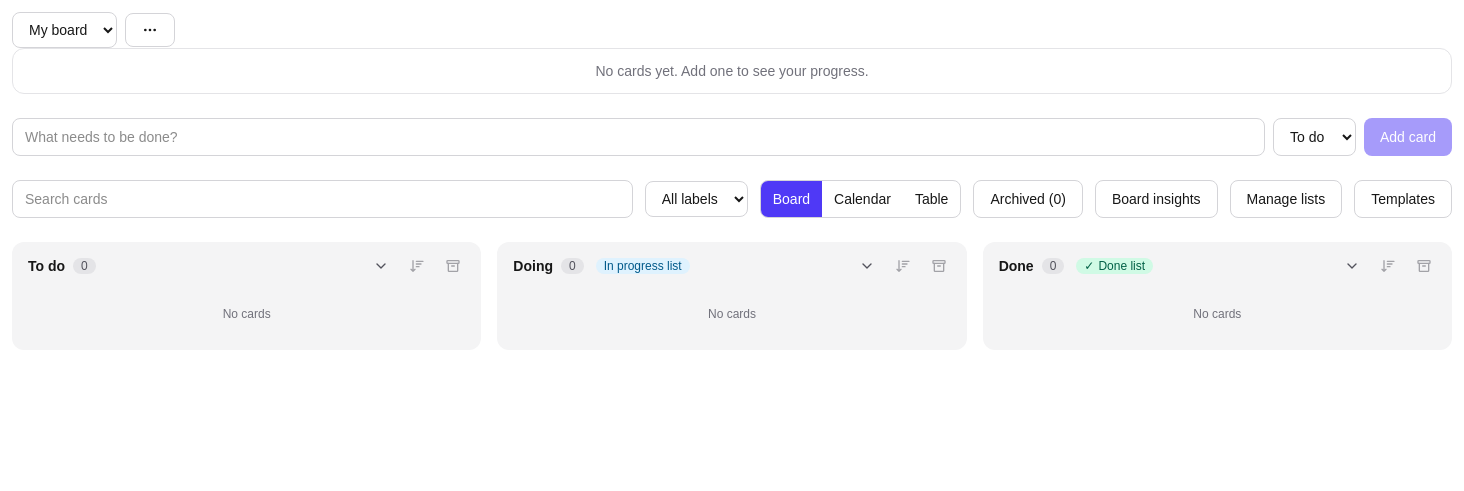
Scenario: <BoardSwitcher /> › collapse empty lists › works by keyboard
Click the button named "Board actions". click: (150,30)
box: [125,13,175,47]
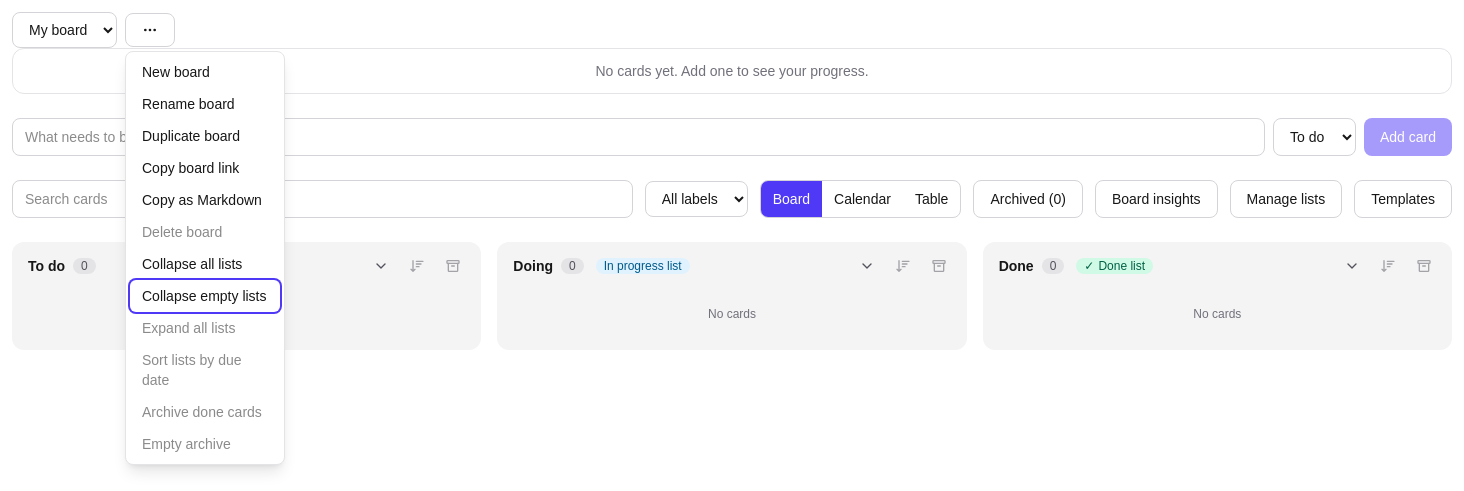
Press Enter
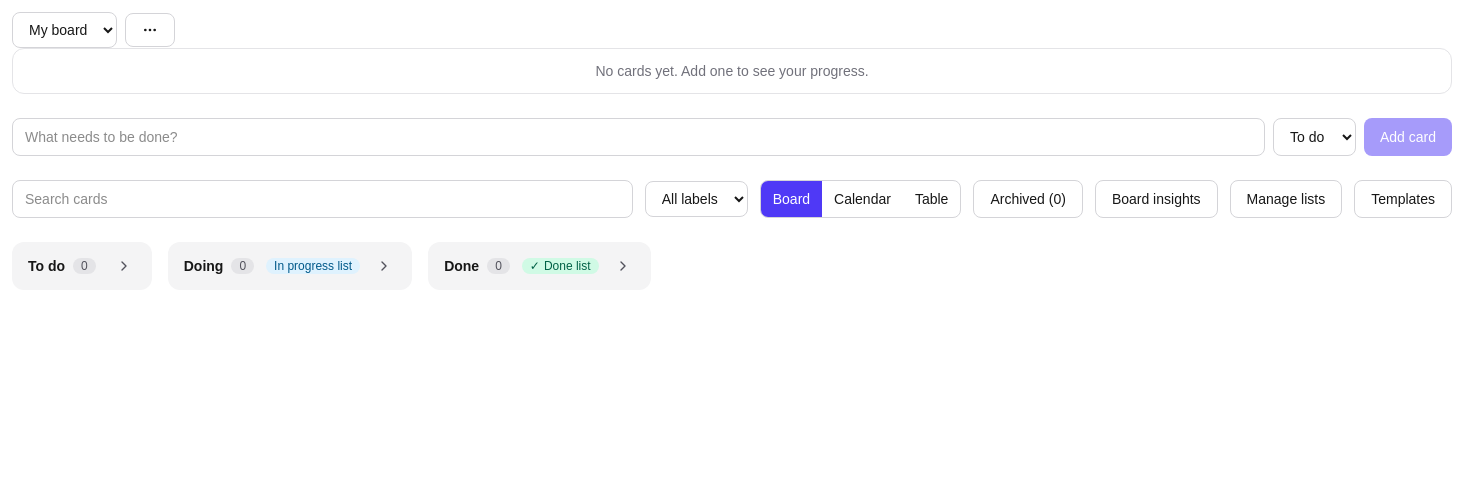
Expected: the button named "Expand To do" is shown, [108,254,140,278]
